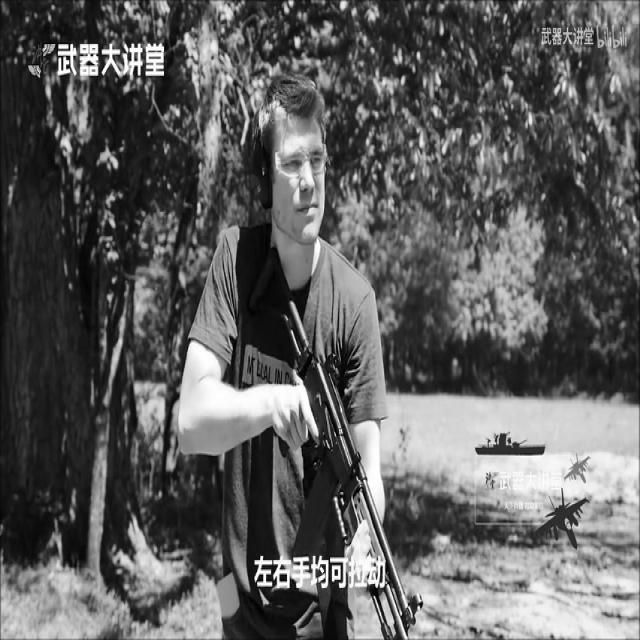Sub-machine-gun: (253, 218, 411, 586)
